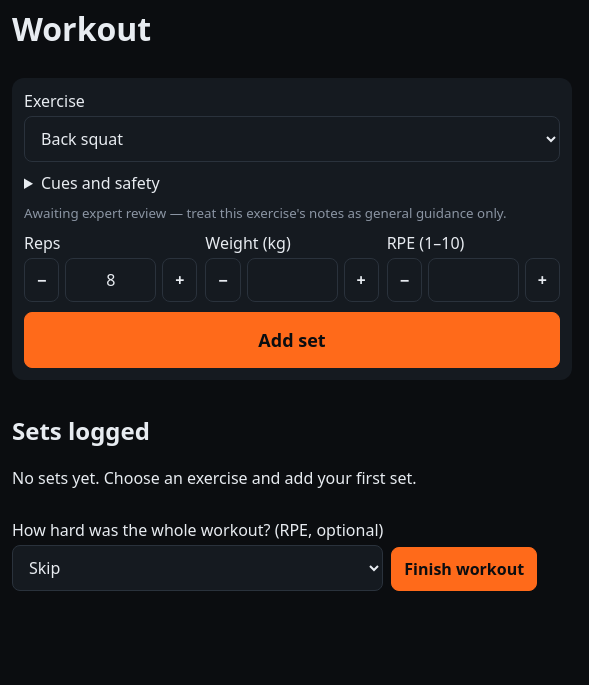
Test case: WorkoutLogger › adds a set through the queue and shows it, then reloads from the server
Expected: the element named "Log a set" is shown, [12,78,572,380]
Replace the text in the field labelled "Reps" with "10" at (111, 280), box [65,258,156,302]
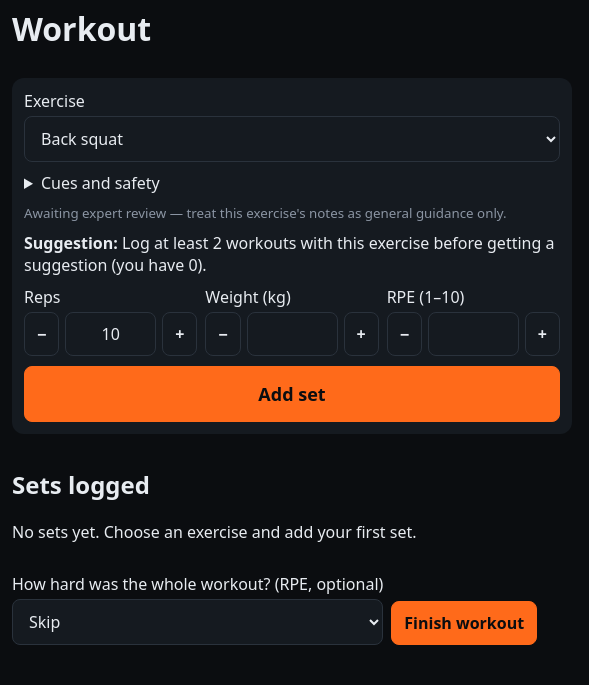
Type "62.5" into the field labelled "Weight (kg)".
click(292, 334); type("62.5")  # box [247,312,338,356]
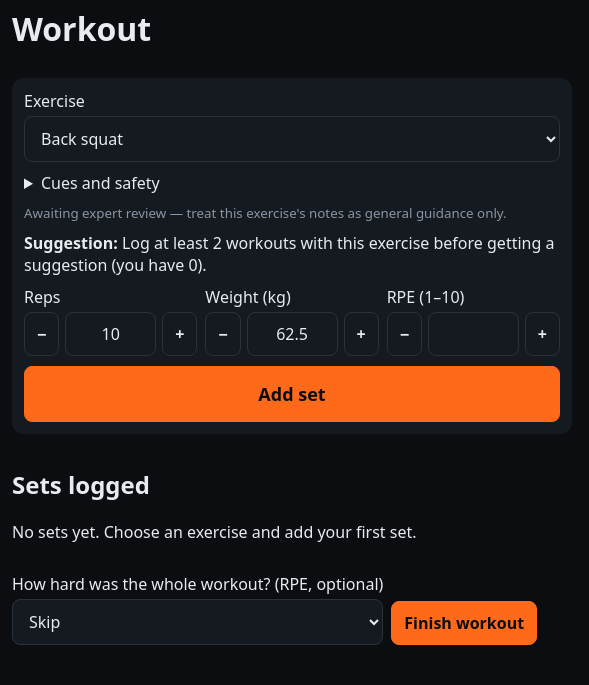
Type "8" into the field labelled "RPE (1–10)".
click(473, 334); type("8")  # box [428,312,519,356]
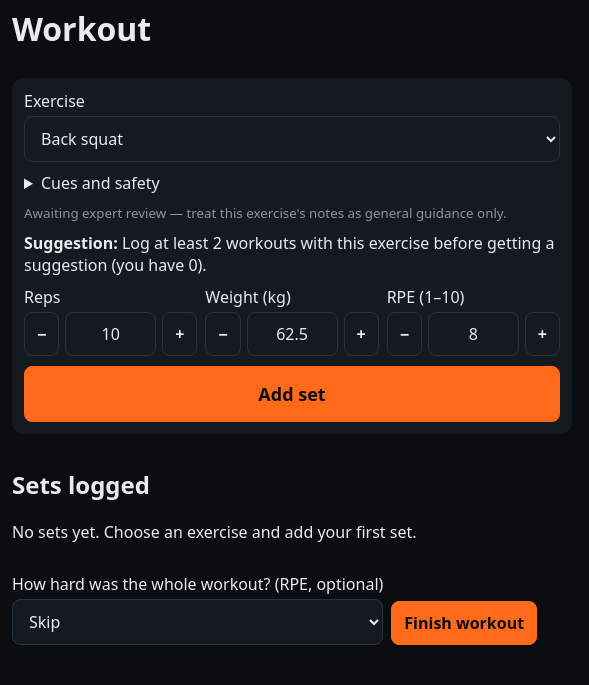
Click the button "Add set".
click(292, 394)  # box [24,366,560,422]
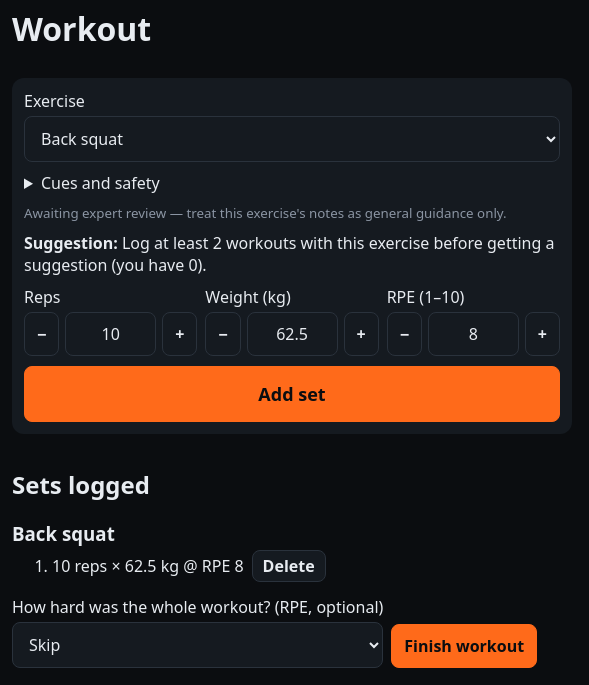
Expected: the list item "10 reps × 62.5 kg @ RPE 8 Delete" is shown, [52,550,326,582]
